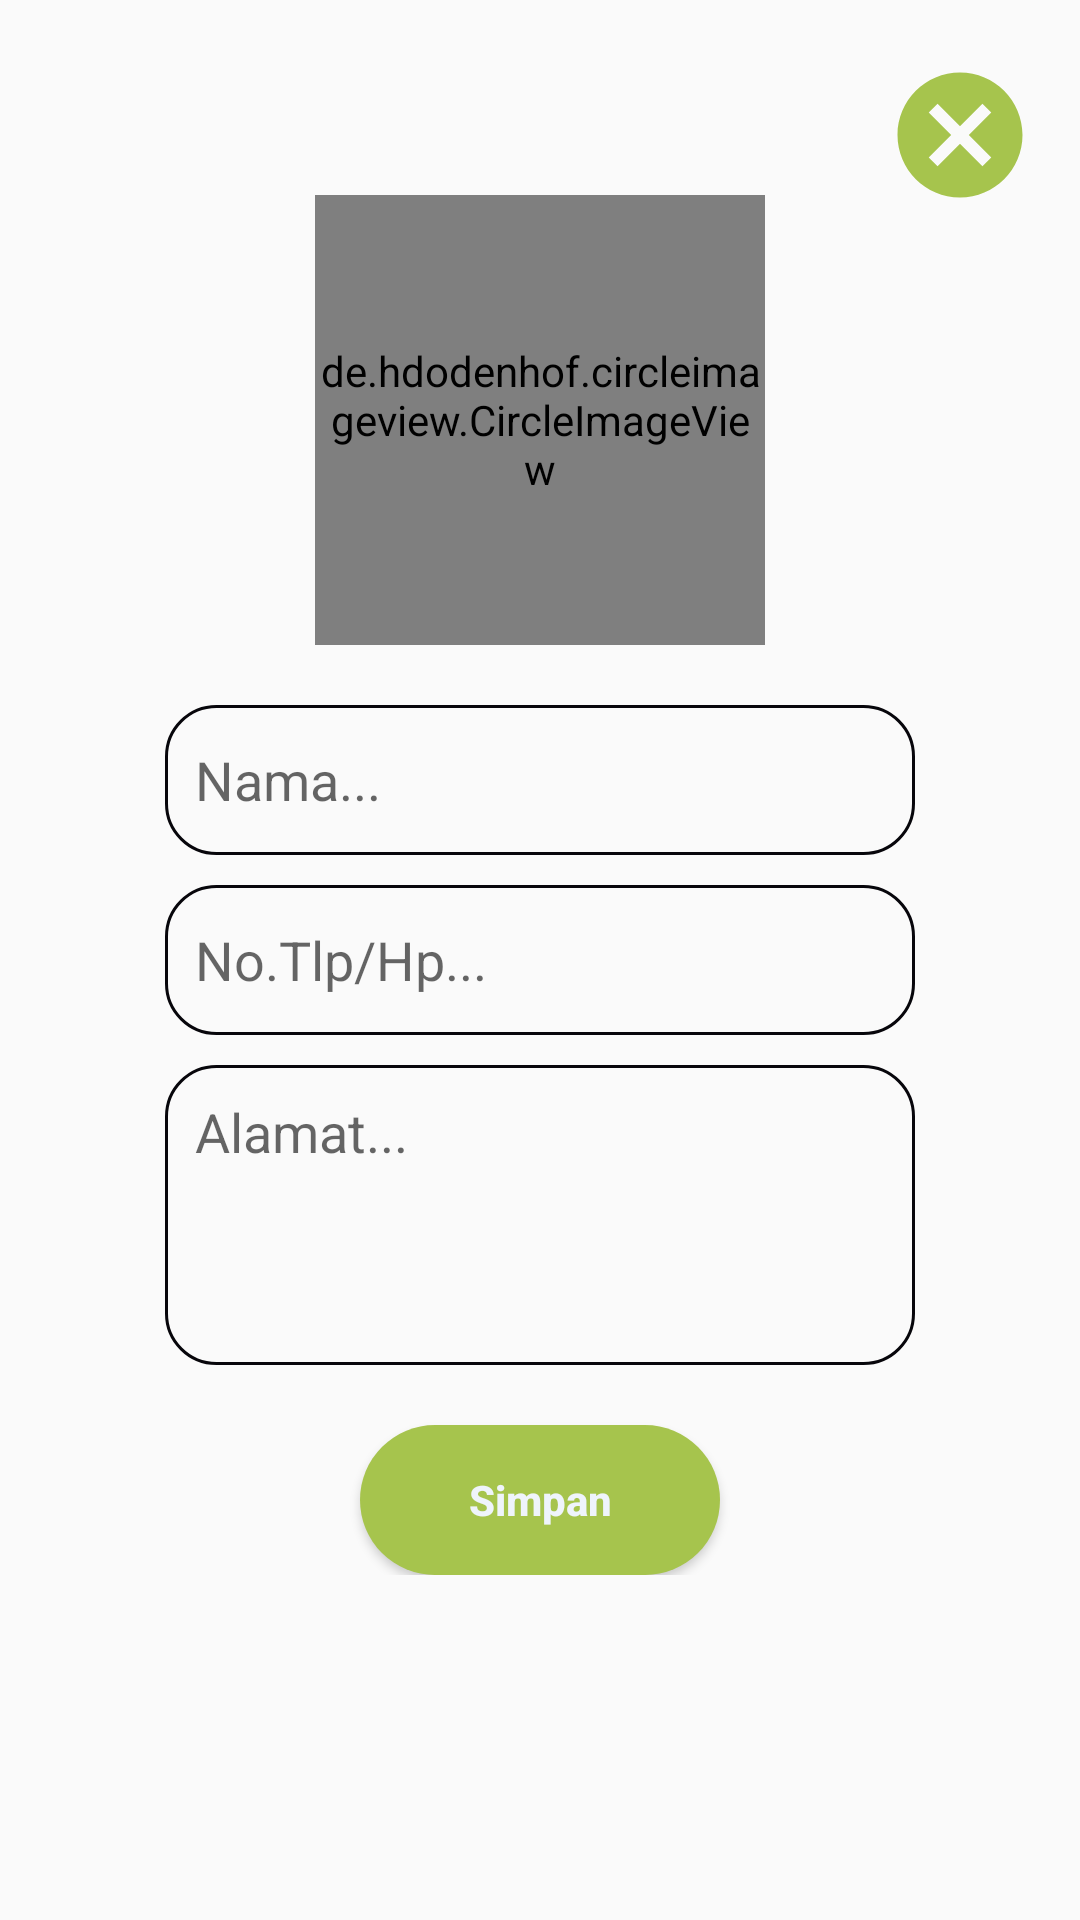

Where icons sit on this 1080 x 1920 app screen, as (x1, y1, x2, y2):
batal: (897, 72, 1023, 198)
